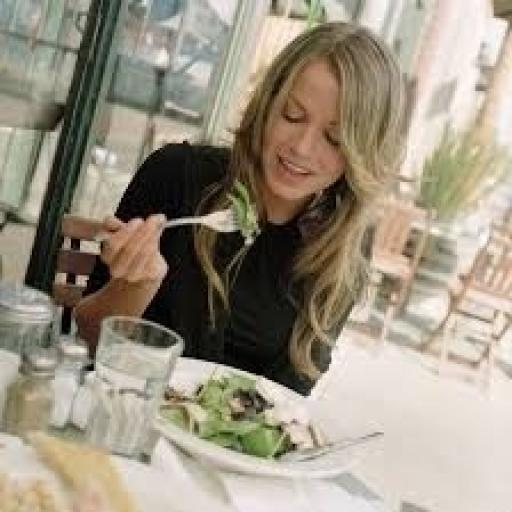eating: (68, 18, 414, 394)
